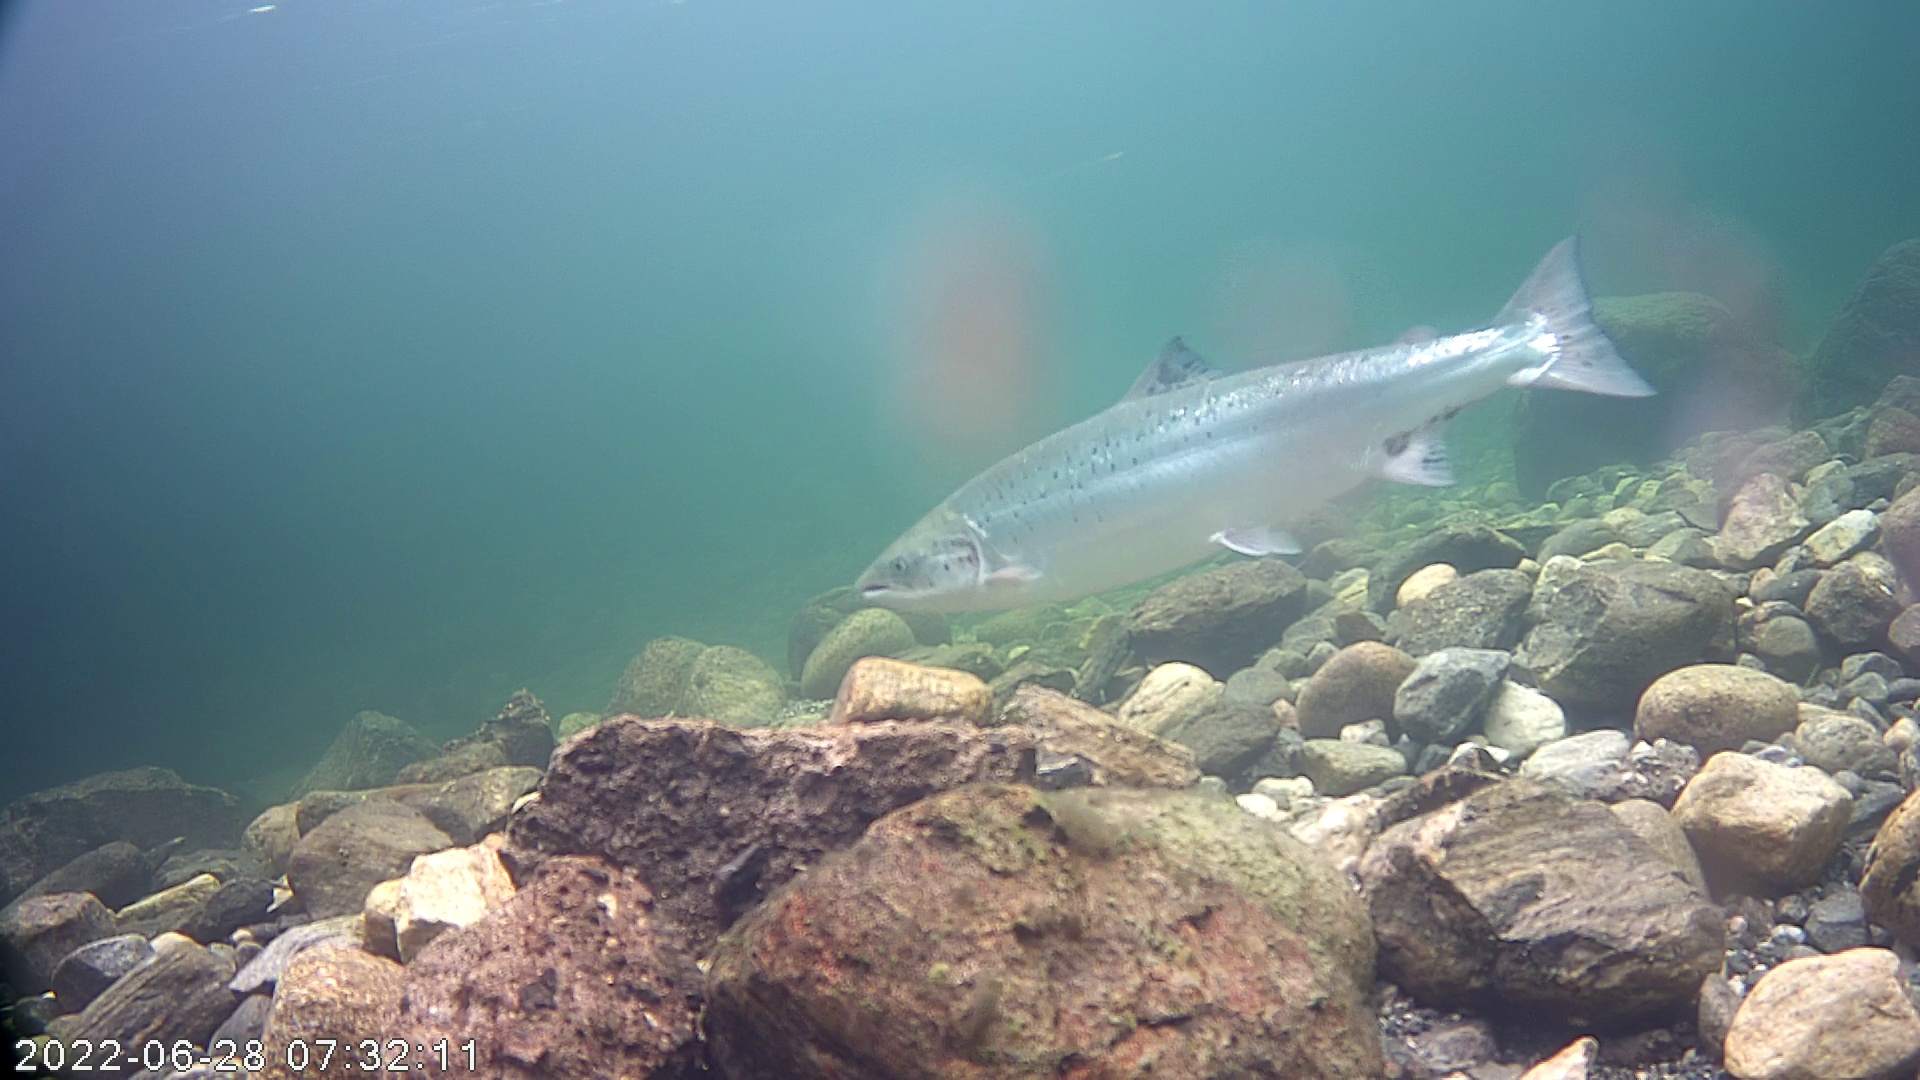salmon: (849, 203, 1698, 630)
